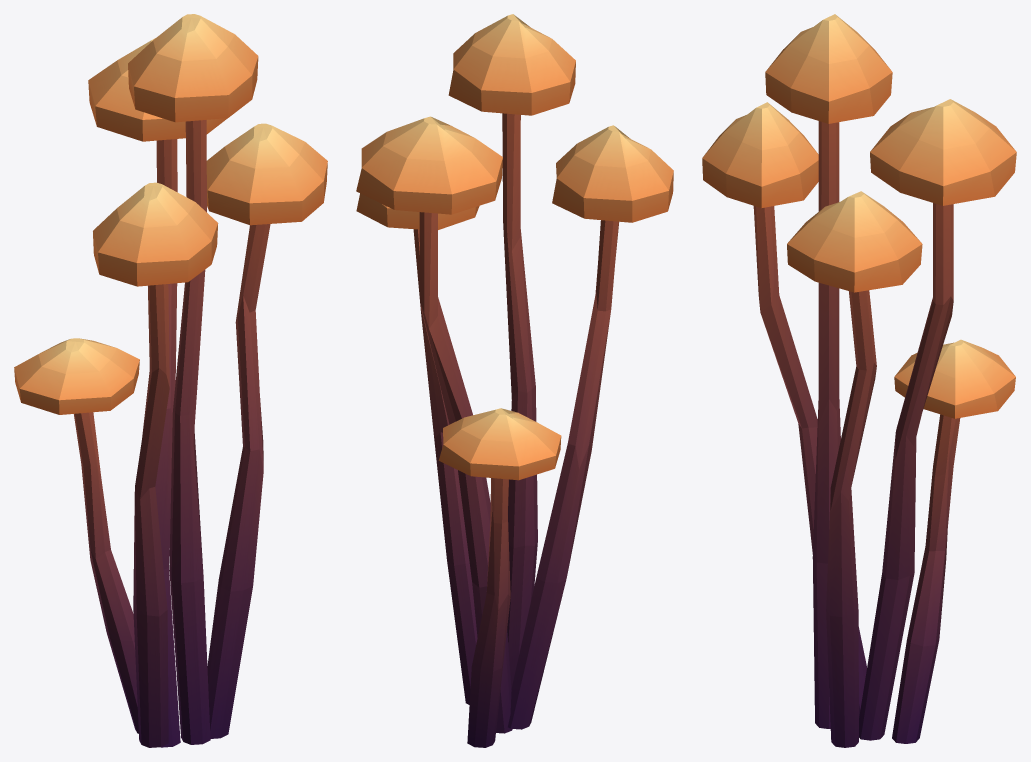
Rendered from Duskspore.fbx.
3 views of the same model, side by side, from view 1: azimuth 30°, elevation 25°; view 2: azimuth 150°, elevation 25°; view 3: azimuth 270°, elevation 25° (orthographic). The views are drawn at different scales.
Visible parts, largest first — view 1: Cube.010; view 2: Cube.010; view 3: Cube.010.
Boxes of the visible parts, bbox=[...] form: Cube.010: bbox=[14, 14, 327, 747]; Cube.010: bbox=[356, 14, 673, 747]; Cube.010: bbox=[702, 14, 1016, 747].
Bounding box in the file's own units: 241 × 614 × 242.
